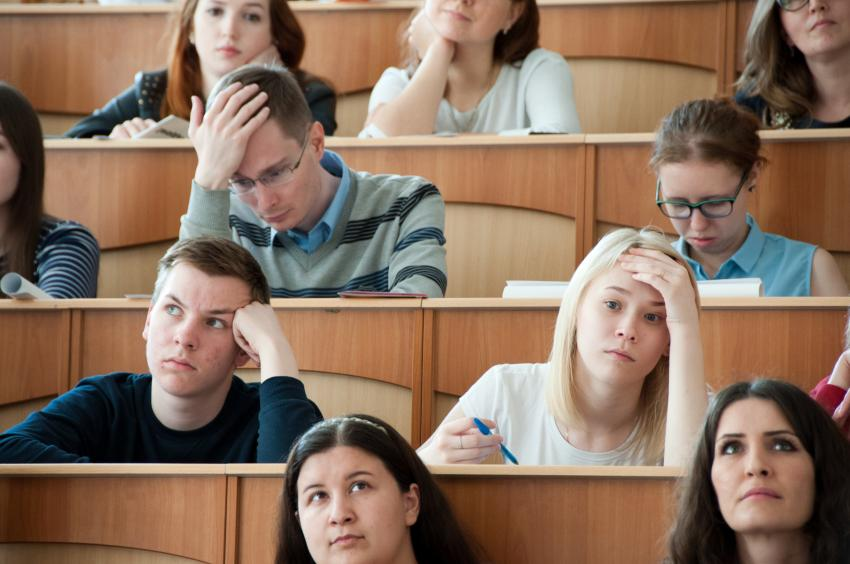students: (3, 233, 325, 461), (414, 228, 718, 467), (179, 65, 449, 297), (653, 100, 848, 296), (66, 1, 341, 139), (672, 379, 850, 563), (357, 1, 580, 138), (272, 414, 470, 563), (1, 85, 101, 298), (733, 1, 849, 130)
